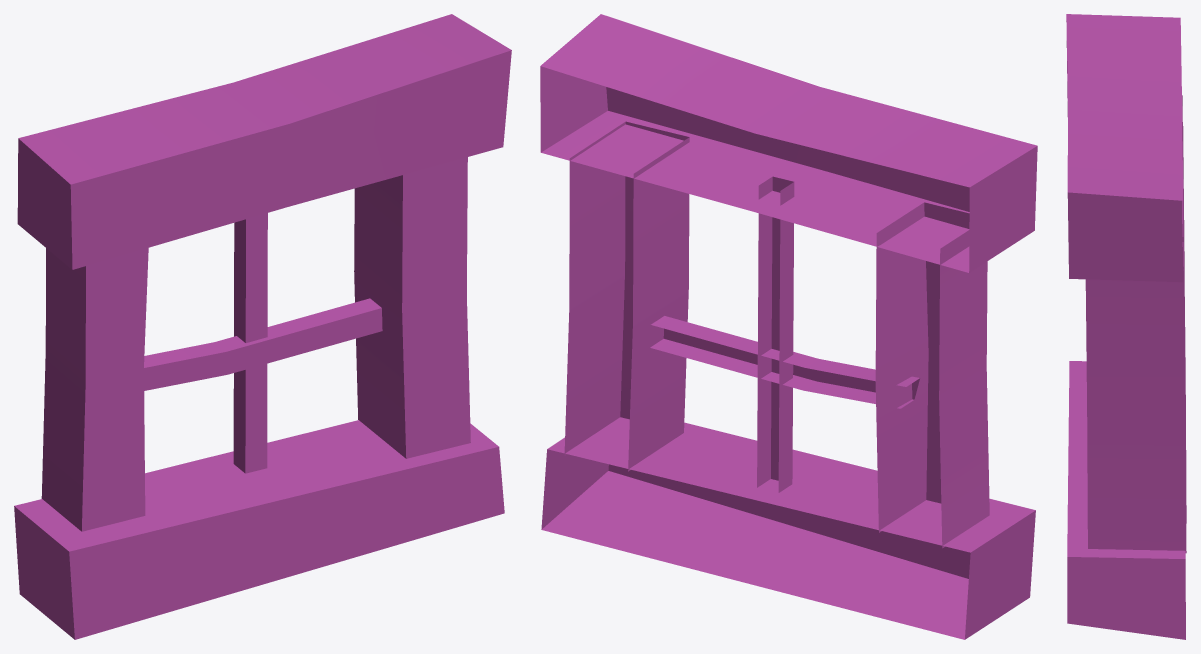
The model's file is window_1.fbx.
The picture shows the model from 3 angles, left to right: view 1: azimuth 30°, elevation 25°; view 2: azimuth 150°, elevation 25°; view 3: azimuth 270°, elevation 25°; orthographic projection. The views are drawn at different scales.
Visible parts, largest first — view 1: window_1; view 2: window_1; view 3: window_1.
Part boxes in pixels (bbox=[...]): window_1: bbox=[14, 14, 511, 639]; window_1: bbox=[540, 14, 1037, 639]; window_1: bbox=[1066, 14, 1186, 639].
Size of the model in its own units: 81.53 by 85.22 by 20.36.
